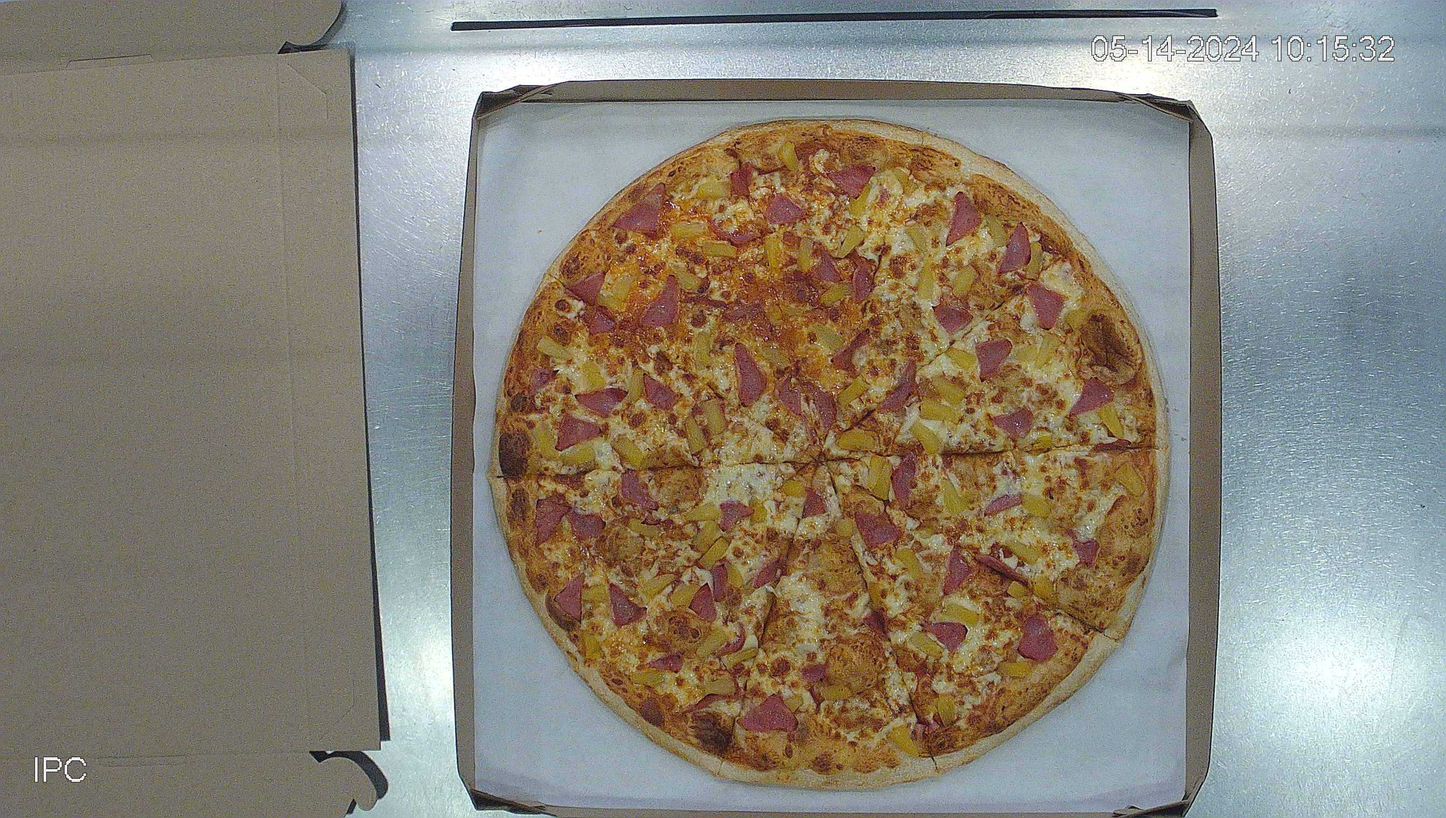manager_choice: (488, 115, 1171, 791)
